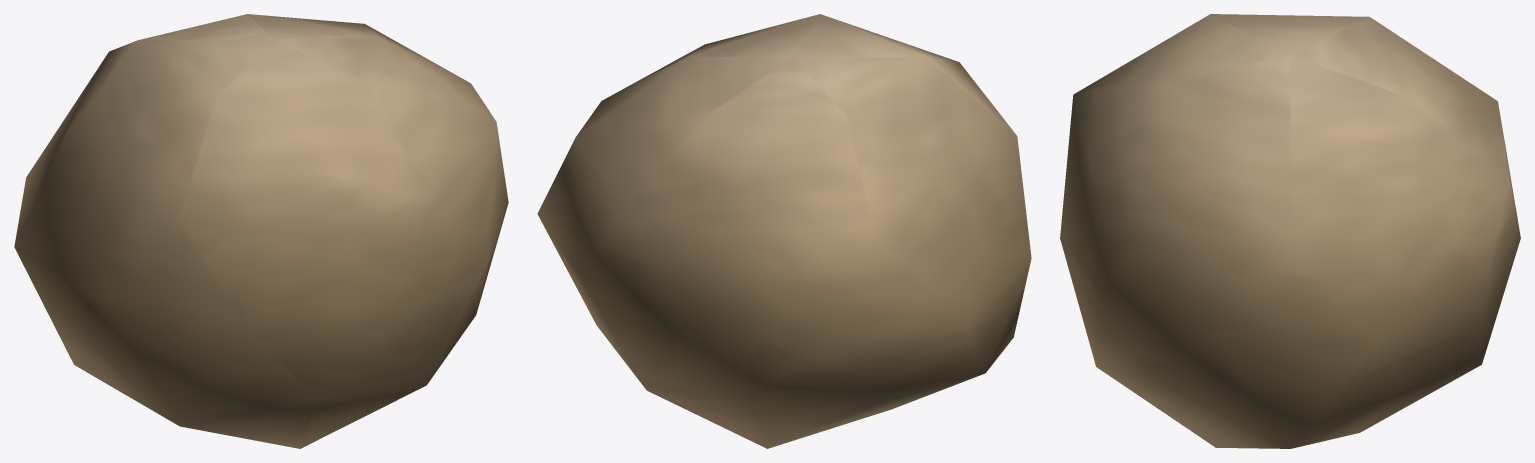
Rendered from nature_boulder.glb.
3 renders of one model, left to right at view 1: azimuth 30°, elevation 25°; view 2: azimuth 150°, elevation 25°; view 3: azimuth 270°, elevation 25°, orthographic. The views are drawn at different scales.
Visible parts, largest first — view 1: nature_boulder; view 2: nature_boulder; view 3: nature_boulder.
Part boxes in pixels (left/top/right/bottom): nature_boulder: left=14, top=14, right=508, bottom=448; nature_boulder: left=537, top=14, right=1031, bottom=448; nature_boulder: left=1060, top=14, right=1520, bottom=448.
Size of the model in its own units: 0.8777 by 0.6953 by 0.8049.
Materials: 1 (1 with a texture image).
